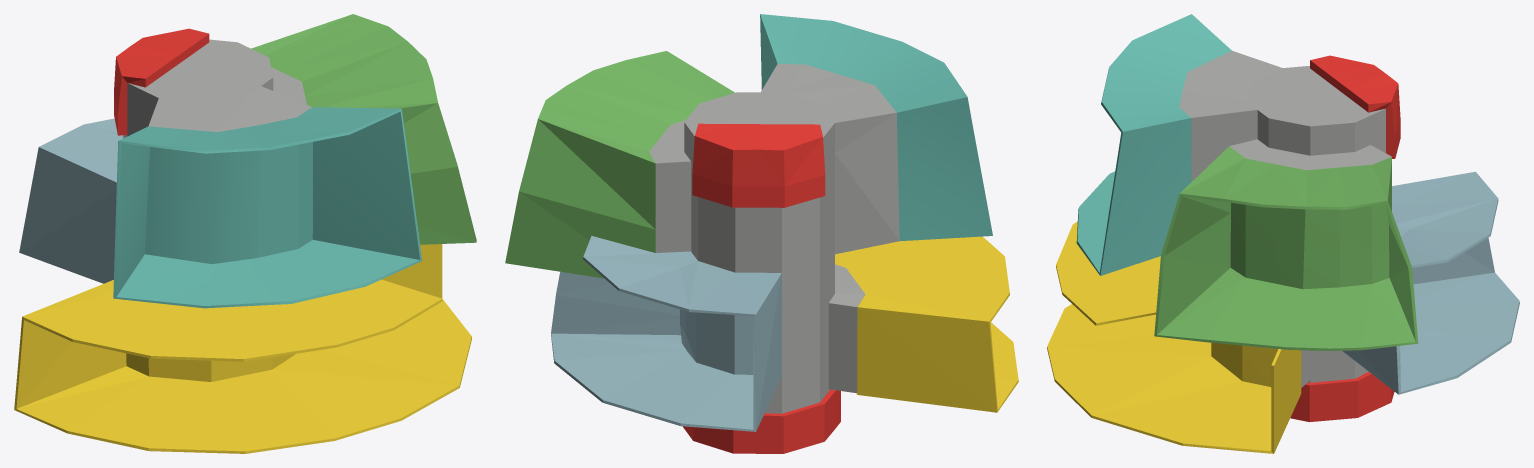
The model's file is company_repeated_floor.FBX.
3 renders of one model, left to right at view 1: azimuth 30°, elevation 25°; view 2: azimuth 150°, elevation 25°; view 3: azimuth 270°, elevation 25°, orthographic. The views are drawn at different scales.
Parts seen in each view (by area): view 1: Object043; view 2: Object043; view 3: Object043.
Boxes of the visible parts, left/top/right/bottom form: Object043: left=14, top=14, right=476, bottom=453; Object043: left=505, top=14, right=1018, bottom=453; Object043: left=1047, top=14, right=1519, bottom=453.
Bounding box in the file's own units: 42.46 × 29.4 × 41.17.
